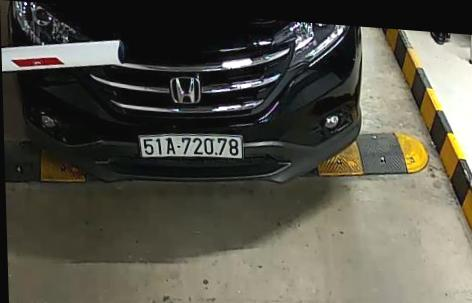License_Plate: (135, 126, 248, 167)
